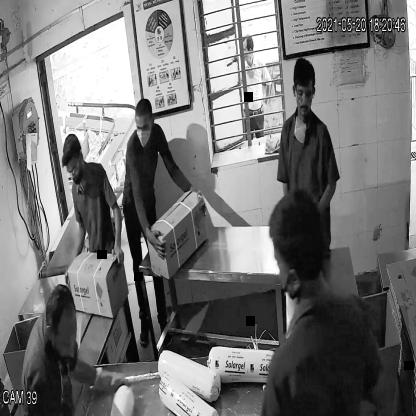goggles: (294, 81, 318, 103)
no_goggles: (132, 119, 153, 134)
